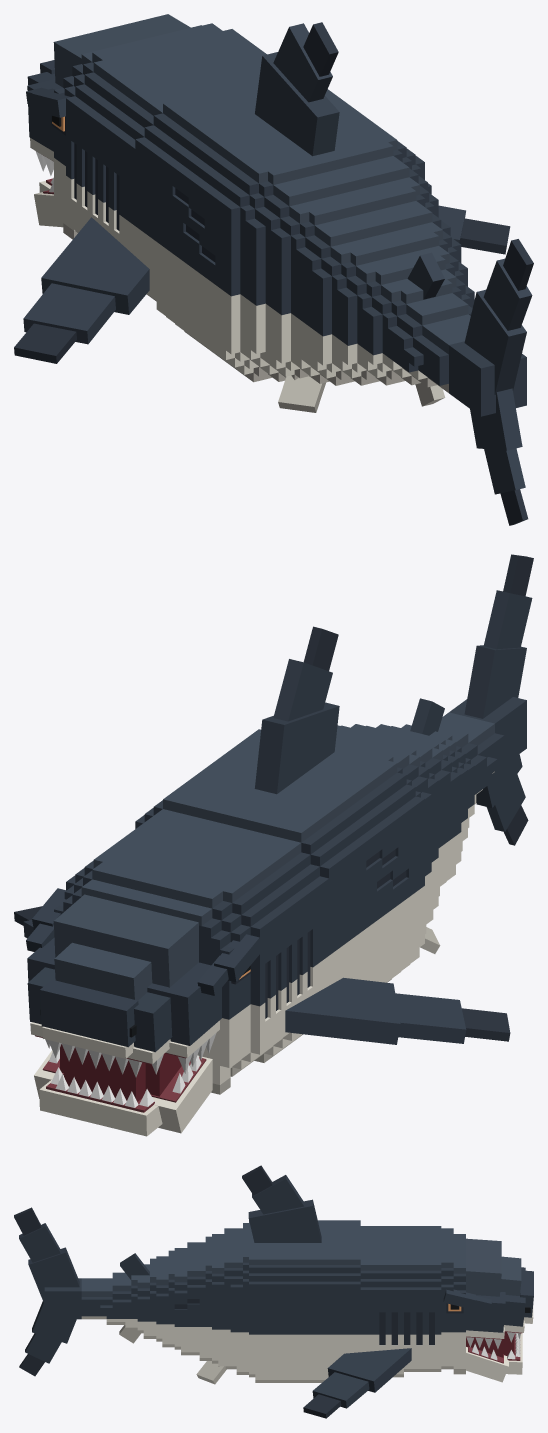
Rendered from Megalodon.obj.
3 views of the same model, one above another, from view 1: azimuth 30°, elevation 25°; view 2: azimuth 150°, elevation 25°; view 3: azimuth 270°, elevation 25° (orthographic). The views are drawn at different scales.
Parts seen in each view (by area): view 1: S2, S1, S3, S4, Tail, S5, Head, S6, Jaw; view 2: Head, S2, S1, Tail, Jaw, S3, S4, S5, S6; view 3: S2, S1, Head, S3, Tail, S4, S5, S6, Jaw.
Boxes of the visible parts, x1,y1,x2,y2 form: S2: [135, 22, 418, 382]; S1: [14, 29, 510, 363]; S3: [226, 136, 438, 412]; S4: [291, 187, 461, 385]; Tail: [449, 239, 533, 525]; S5: [337, 246, 474, 406]; Head: [26, 14, 222, 239]; S6: [393, 297, 472, 392]; Jaw: [34, 177, 63, 227]; Head: [26, 862, 261, 1101]; S2: [135, 626, 419, 1035]; S1: [14, 809, 510, 1076]; Tail: [449, 554, 533, 845]; Jaw: [34, 1048, 212, 1136]; S3: [254, 729, 440, 953]; S4: [336, 724, 461, 896]; S5: [366, 698, 476, 851]; S6: [438, 712, 504, 794]; S2: [242, 1165, 360, 1382]; S1: [303, 1226, 441, 1418]; Head: [441, 1228, 533, 1374]; S3: [196, 1221, 255, 1384]; Tail: [14, 1207, 81, 1376]; S4: [168, 1236, 211, 1360]; S5: [119, 1253, 168, 1347]; S6: [81, 1272, 125, 1324]; Jaw: [466, 1333, 522, 1382].
Size of the model in its own units: 26.89 by 18.62 by 41.95.
Materials: 1 (1 with a texture image).
